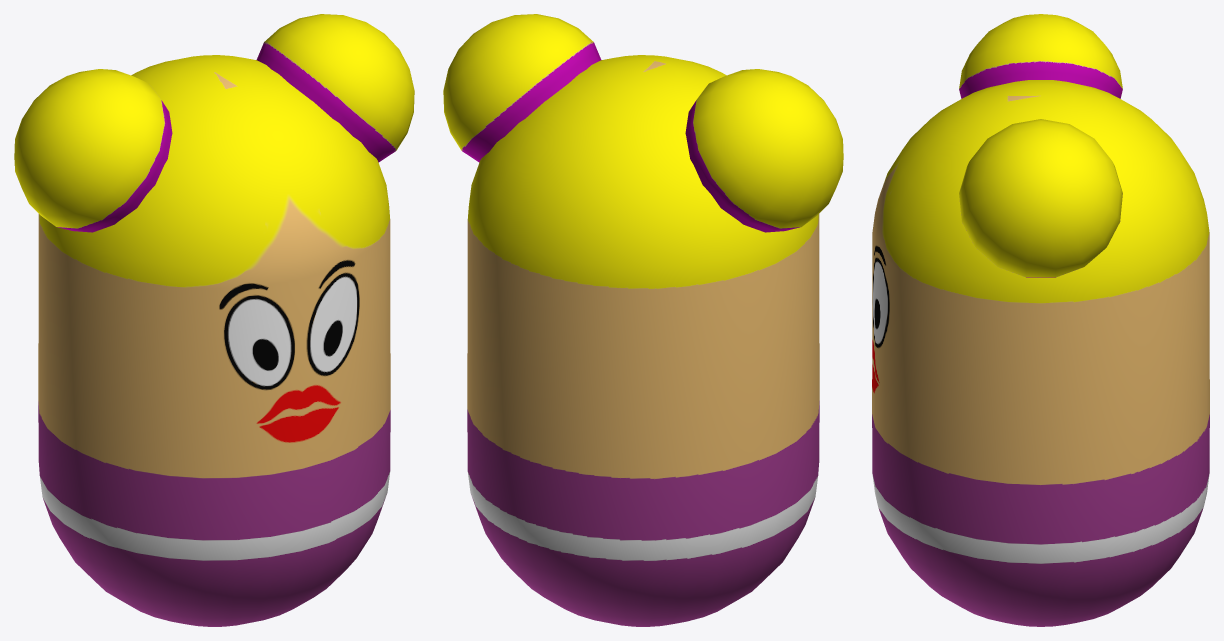
Rendered from WomenCharacter2.fbx.
3 renders of one model, left to right at view 1: azimuth 30°, elevation 25°; view 2: azimuth 150°, elevation 25°; view 3: azimuth 270°, elevation 25°, orthographic. The views are drawn at different scales.
Visible parts, largest first — view 1: Sphere; view 2: Sphere; view 3: Sphere.
Part boxes in pixels (x1=…): Sphere: x1=14, y1=14, x2=414, y2=626; Sphere: x1=443, y1=14, x2=843, y2=626; Sphere: x1=872, y1=14, x2=1209, y2=626.
Size of the model in its own units: 427 by 606 by 346.
Materials: 1 (1 with a texture image).
